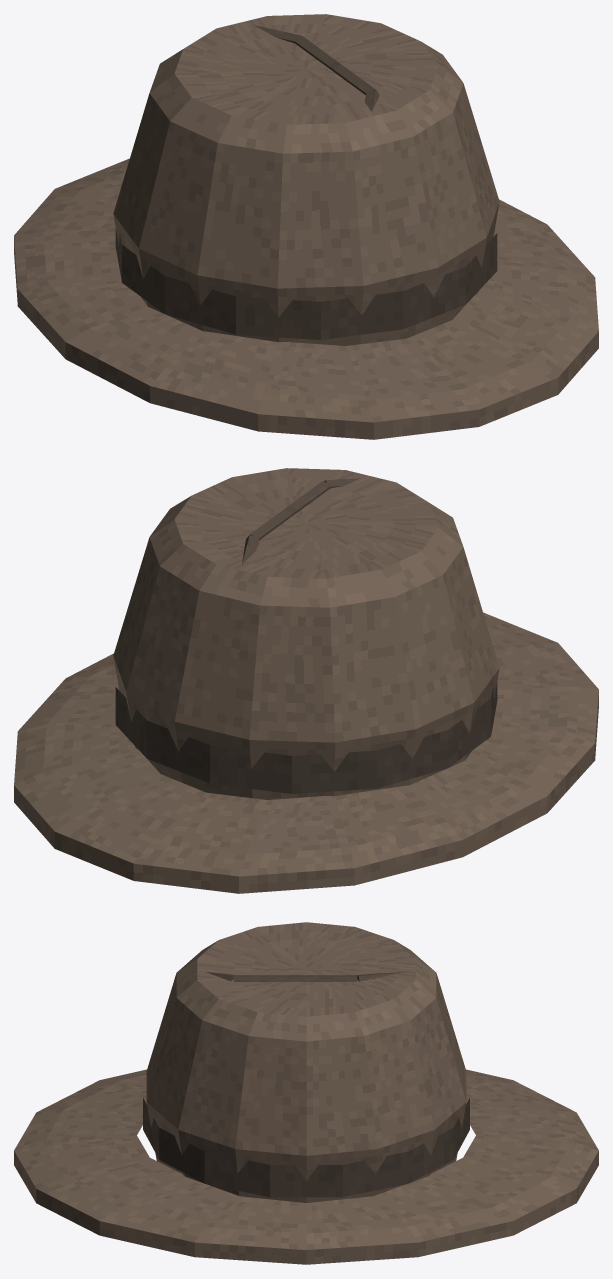
Rendered from fedora.glb.
The picture shows the model from 3 angles, top to bottom: view 1: azimuth 30°, elevation 25°; view 2: azimuth 150°, elevation 25°; view 3: azimuth 270°, elevation 25°; orthographic projection. The views are drawn at different scales.
Visible parts, largest first — view 1: block_hat crown, block_shaped hat brim, block_hatband, block_creased crown 1; view 2: block_hat crown, block_shaped hat brim, block_hatband, block_creased crown 1; view 3: block_hat crown, block_shaped hat brim, block_hatband, block_creased crown 1.
Boxes of the visible parts, x1,y1,x2,y2 form: block_hat crown: (113, 14, 499, 345); block_shaped hat brim: (14, 158, 598, 439); block_hatband: (115, 228, 497, 339); block_creased crown 1: (295, 36, 378, 94); block_hat crown: (113, 468, 499, 799); block_shaped hat brim: (14, 612, 598, 893); block_hatband: (115, 682, 497, 793); block_creased crown 1: (250, 481, 330, 539); block_hat crown: (146, 922, 466, 1202); block_shaped hat brim: (14, 1069, 598, 1264); block_hatband: (143, 1098, 469, 1197); block_creased crown 1: (234, 975, 357, 981).
Bounding box in the file's own units: 0.2397 × 0.1151 × 0.2977.
Materials: 1 (1 with a texture image).
